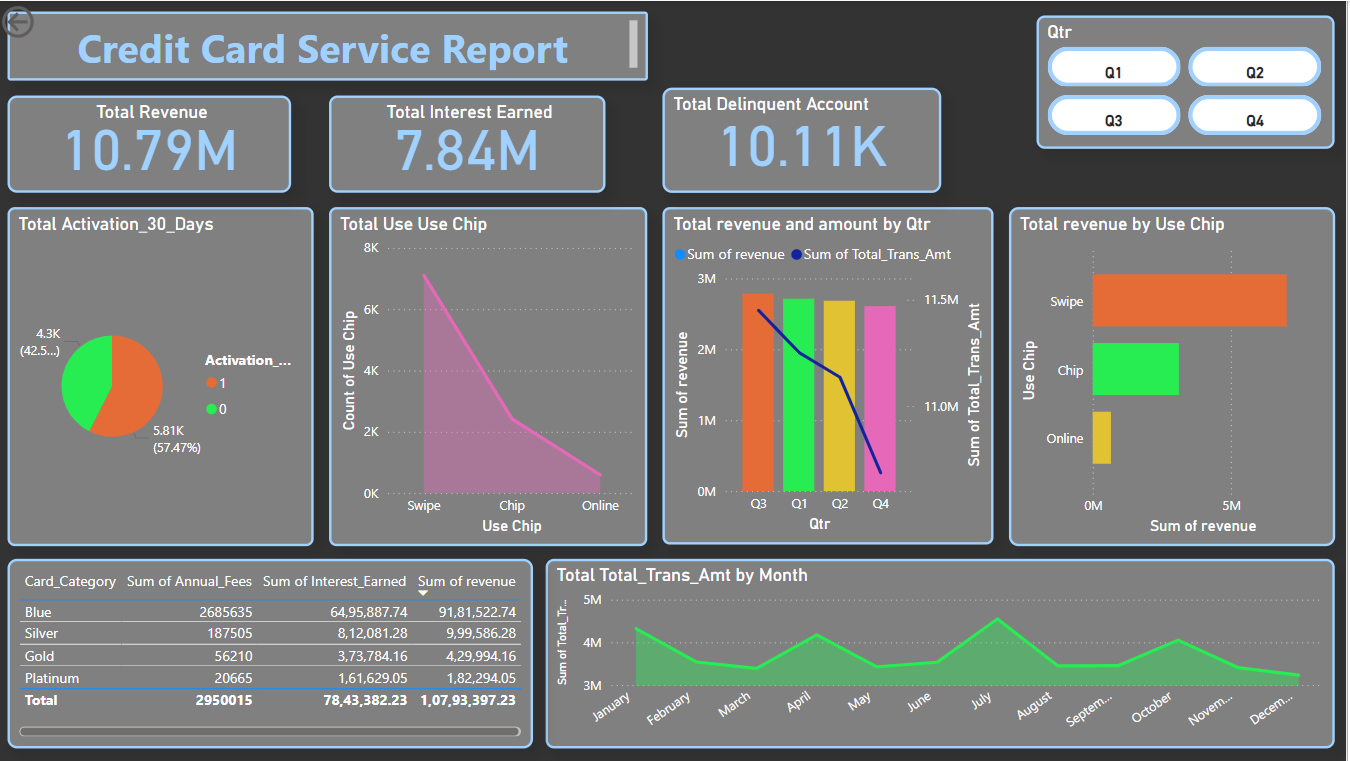

The page's visual inventory and layout, read from the dashboard file:
{"tool":"powerbi","page":{"name":"Page 2","canvas":[1280,720],"ordinal":1},"visuals":[{"type":"textbox","box":[10.4,10.4,606.9,65.4],"z":0},{"type":"pieChart","title":"Total Activation_30_Days ","fields":{"Category":["credit_card.Activation_30_Days"],"Y":["CountNonNull(credit_card.Activation_30_Days)"]},"box":[10.4,194.8,290,321.3],"z":1000},{"type":"areaChart","title":"Total Use Use Chip","fields":{"Category":["credit_card.Use Chip"],"Y":["CountNonNull(credit_card.Use Chip)"]},"box":[315.3,194.8,301.9,321.3],"z":2000},{"type":"lineClusteredColumnComboChart","title":"Total revenue and amount by Qtr","fields":{"Category":["credit_card.Qtr"],"Y":["Sum(credit_card.revenue)"],"Y2":["Sum(credit_card.Total_Trans_Amt)"]},"box":[630.7,194.8,313.8,319.8],"z":3000},{"type":"clusteredBarChart","title":"Total revenue by Use Chip","fields":{"Category":["credit_card.Use Chip"],"Y":["Sum(credit_card.revenue)"]},"box":[959.4,194.8,309.4,321.3],"z":4000},{"type":"areaChart","title":"Total Total_Trans_Amt by Month","fields":{"Y":["Sum(credit_card.Total_Trans_Amt)"],"Category":["credit_card.Week_Start_Date.Variation.Date Hierarchy.Month"]},"box":[520.6,529.5,748.2,180],"z":5000},{"type":"tableEx","fields":{"Values":["credit_card.Card_Category","Sum(credit_card.Annual_Fees)","Sum(credit_card.Interest_Earned)","Sum(credit_card.revenue)"]},"box":[10.4,529.5,498.3,180],"z":6000},{"type":"actionButton","box":[0,0,100,40],"z":7000},{"type":"advancedSlicerVisual","fields":{"Values":["credit_card.Qtr"]},"box":[986.1,13.4,282.6,126.4],"z":8000},{"type":"card","title":"Total Delinquent Account","fields":{"Values":["CountNonNull(credit_card.Delinquent_Acc)"]},"box":[630.7,81.8,264.8,99.7],"z":9000},{"type":"card","title":"Total Revenue","fields":{"Values":["Sum(credit_card.revenue)"]},"box":[10.4,89.2,269.2,92.2],"z":10000},{"type":"card","title":"Total Interest Earned","fields":{"Values":["Sum(credit_card.Interest_Earned)"]},"box":[315.3,89.2,261.8,92.2],"z":11000}]}

Visuals, with their boxes in screenshot pixels (x1, y1, x2, y2), scaled from the page's 1280x720 canvas onto the 1350x761 screenshot:
textbox: region(11, 11, 651, 80)
"Total Activation_30_Days " pieChart: region(11, 206, 317, 545)
"Total Use Use Chip" areaChart: region(333, 206, 651, 545)
"Total revenue and amount by Qtr" lineClusteredColumnComboChart: region(665, 206, 996, 544)
"Total revenue by Use Chip" clusteredBarChart: region(1012, 206, 1338, 545)
"Total Total_Trans_Amt by Month" areaChart: region(549, 560, 1338, 750)
tableEx - credit_card.Card_Category x Sum(credit_card.Annual_Fees): region(11, 560, 537, 750)
actionButton: region(0, 0, 105, 42)
advancedSlicerVisual - credit_card.Qtr: region(1040, 14, 1338, 148)
"Total Delinquent Account" card: region(665, 86, 944, 192)
"Total Revenue" card: region(11, 94, 295, 192)
"Total Interest Earned" card: region(333, 94, 609, 192)
